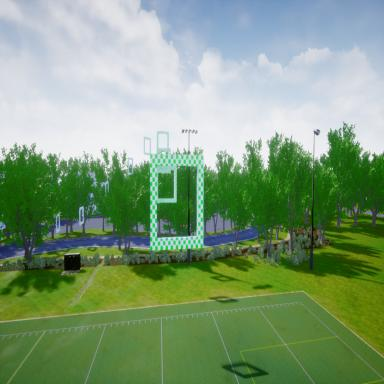gate: (149, 152, 203, 255)
